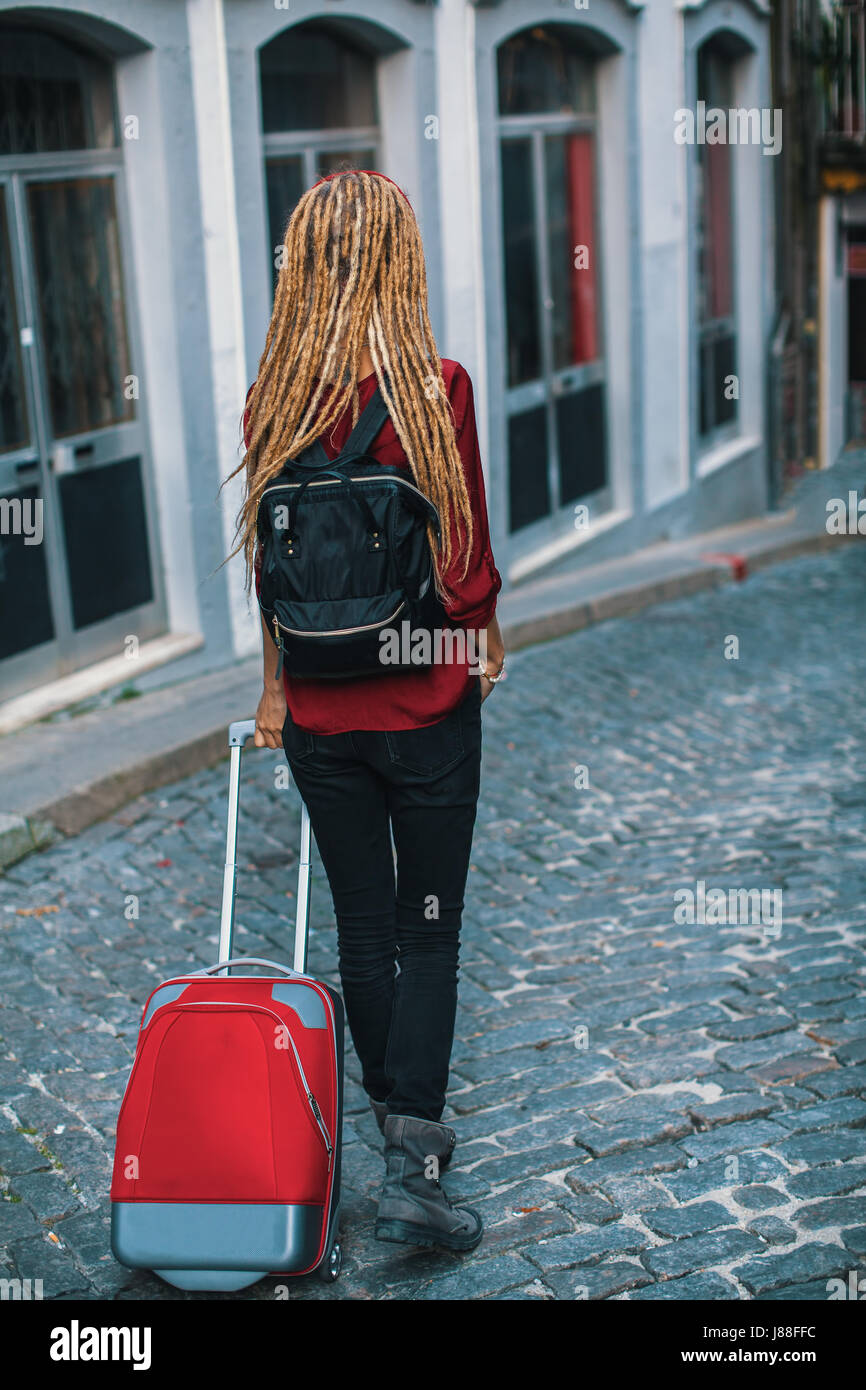person: (242, 161, 503, 1259)
